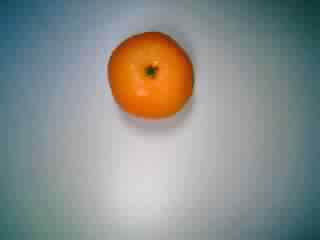orange: (104, 28, 196, 126)
